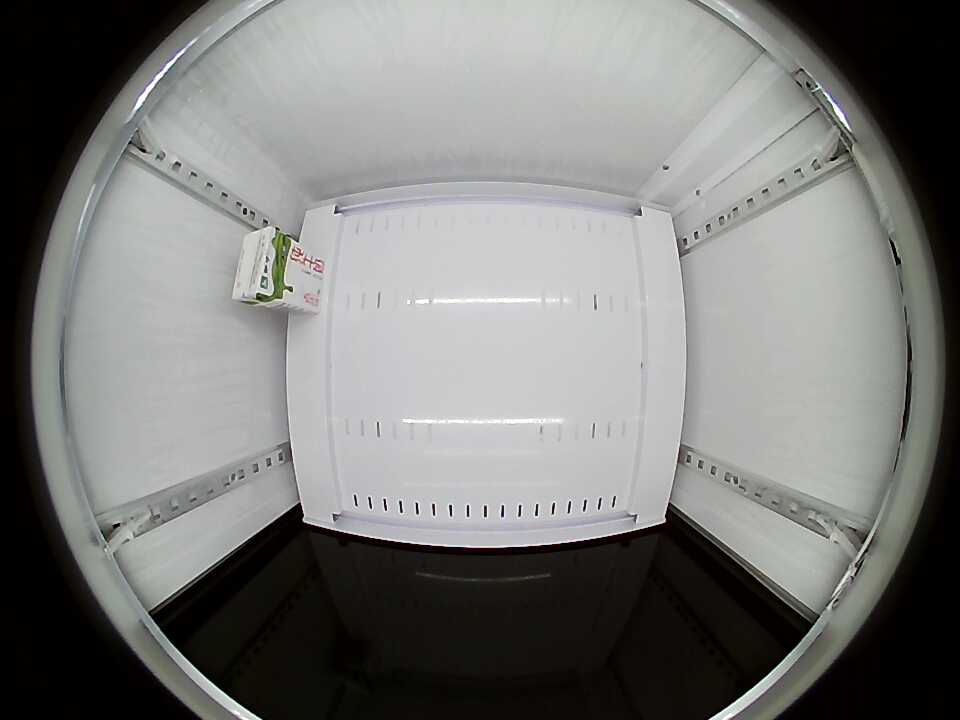mengniu: (232, 226, 291, 308)
